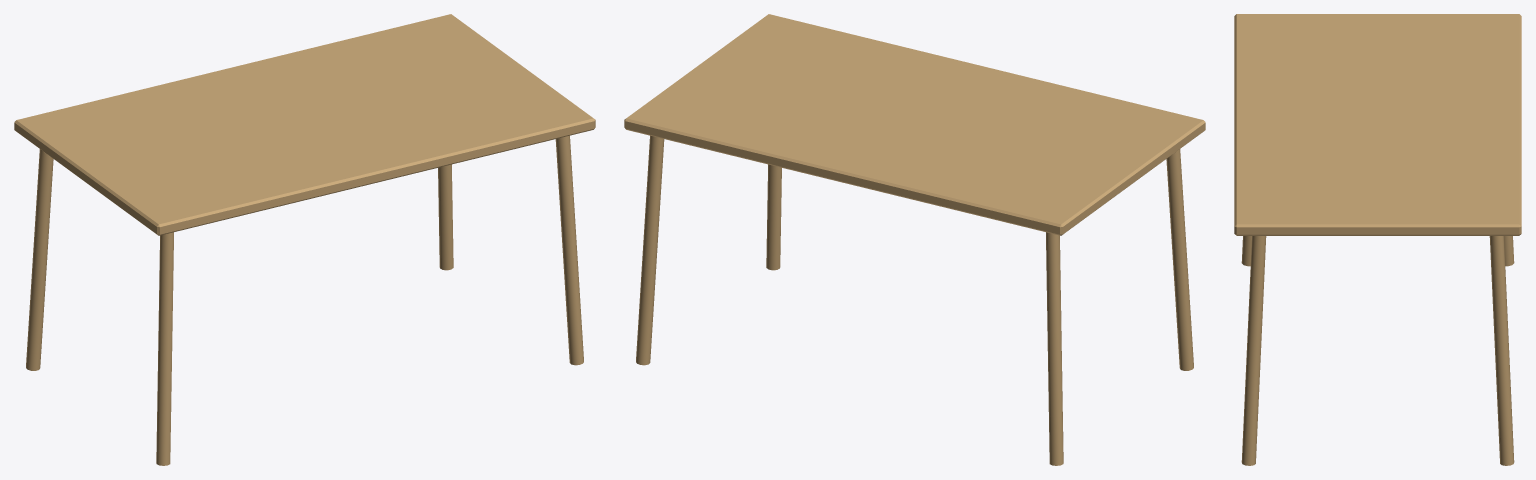
The model's file is i_table_0.glb.
3 renders of one model, left to right at view 1: azimuth 30°, elevation 25°; view 2: azimuth 150°, elevation 25°; view 3: azimuth 270°, elevation 25°, orthographic.
Parts seen in each view (by area): view 1: o, o.003, o.001, o.002, o.004; view 2: o, o.004, o.002, o.001, o.003; view 3: o, o.003, o.004.
Boxes of the visible parts, x1,y1,x2,y2 form: o: (14, 14, 595, 235); o.003: (555, 135, 583, 365); o.001: (156, 232, 173, 465); o.002: (26, 149, 53, 370); o.004: (438, 164, 453, 270); o: (624, 14, 1205, 235); o.004: (636, 135, 664, 365); o.002: (1046, 232, 1063, 465); o.001: (1166, 149, 1193, 370); o.003: (766, 164, 781, 270); o: (1234, 14, 1521, 235); o.003: (1241, 236, 1266, 465); o.004: (1489, 236, 1514, 465).
Size of the model in its own units: 1.4 by 0.7511 by 0.8.
